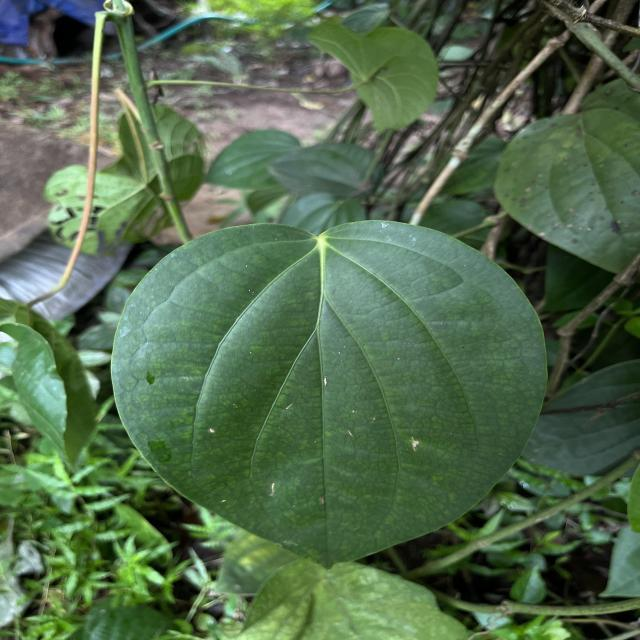Piper nigrum: (109, 218, 550, 571)
